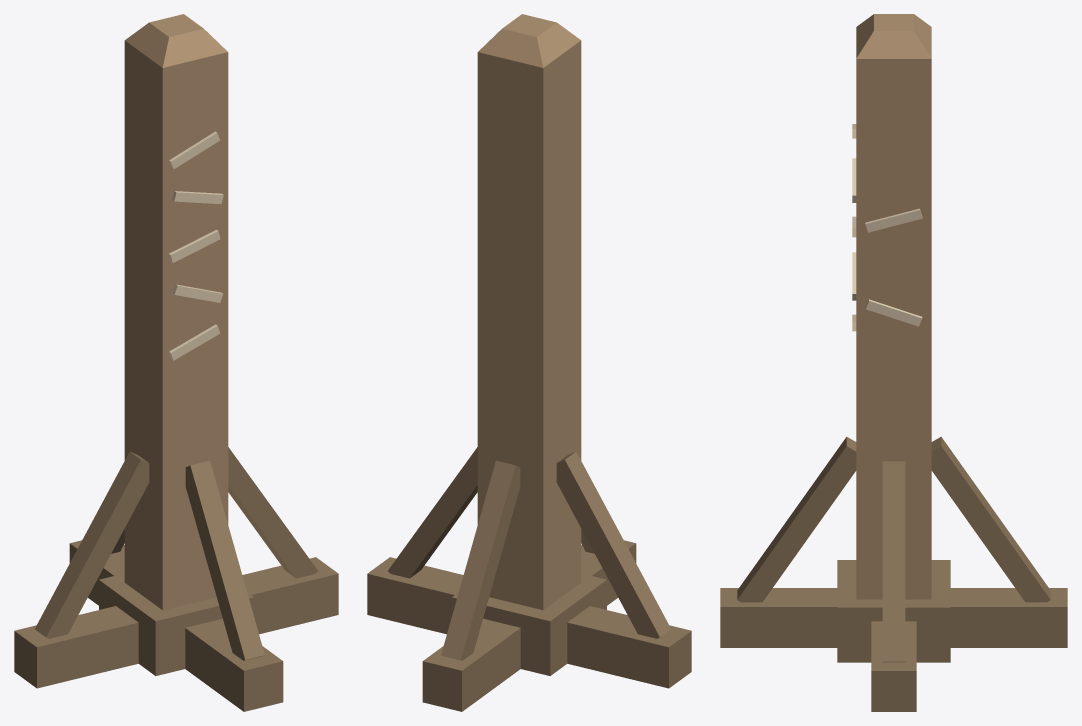
Rendered from prop-pell-post-wood.glb.
3 renders of one model, left to right at view 1: azimuth 30°, elevation 25°; view 2: azimuth 150°, elevation 25°; view 3: azimuth 270°, elevation 25°, orthographic.
Visible parts, largest first — view 1: prop-pell-post-wood; view 2: prop-pell-post-wood; view 3: prop-pell-post-wood.
Boxes of the visible parts, x1,y1,x2,y2 form: prop-pell-post-wood: (14, 14, 338, 711); prop-pell-post-wood: (367, 14, 691, 711); prop-pell-post-wood: (720, 14, 1067, 711).
Bounding box in the file's own units: 0.92 × 1.8 × 0.92.
